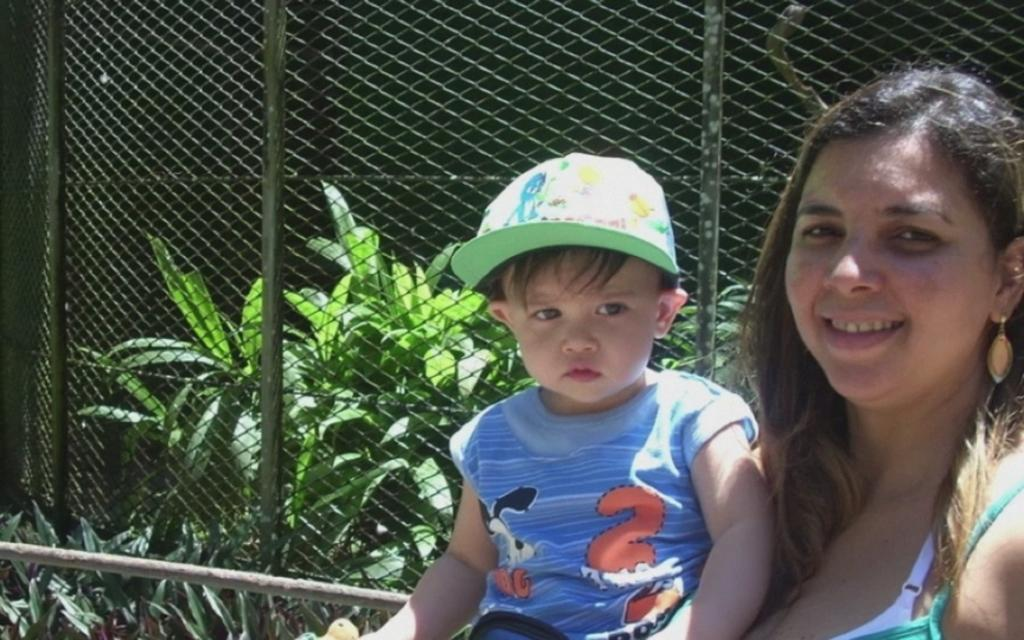Hat: (447, 150, 677, 303)
